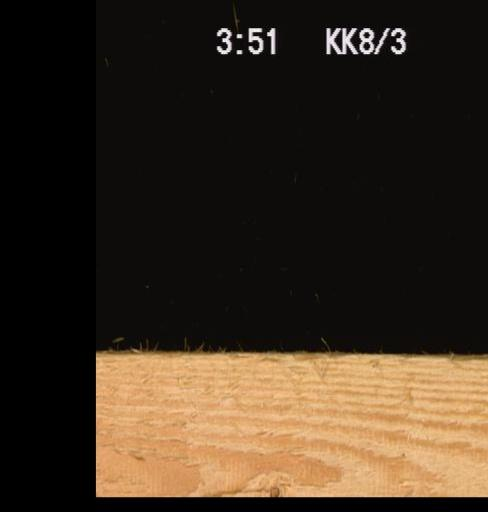edge_knot: (265, 483, 278, 496)
